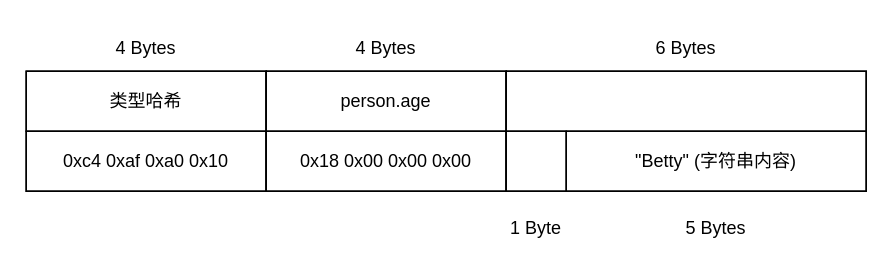
Some shapes in this 893 by 276 pixel diagram are drawn without their labels. Here are the shapes that lost their labels. From the top down, the centre of each, then its label:
the point at 685,100: person.name
the point at 535,160: 5 (长度)
